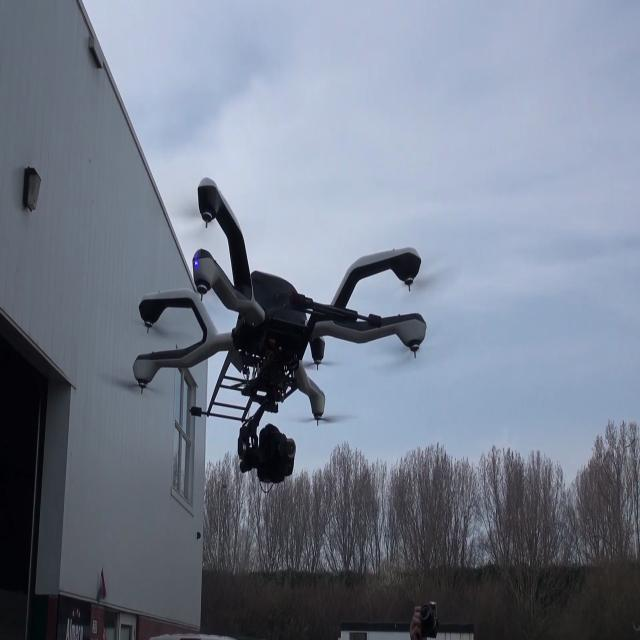drone: (111, 140, 431, 512)
